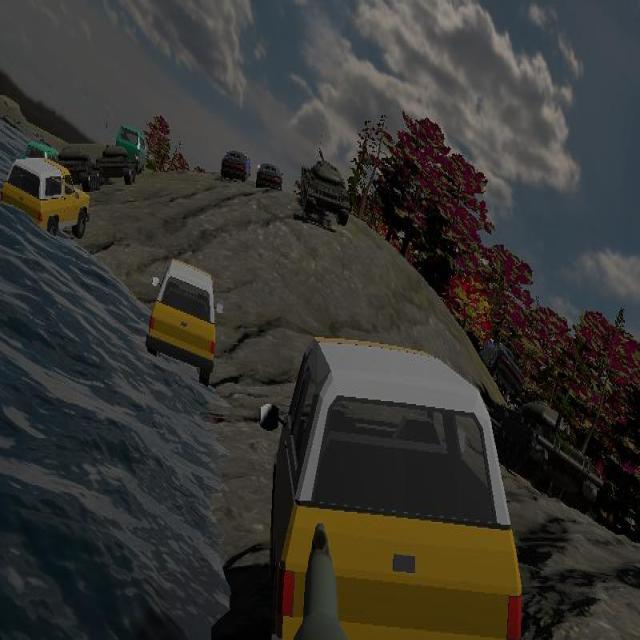Tank: (495, 397, 602, 504), (300, 144, 350, 226), (97, 143, 135, 187)
car: (268, 336, 524, 640), (269, 340, 522, 640), (147, 259, 218, 386), (1, 158, 90, 241), (115, 123, 146, 175)
